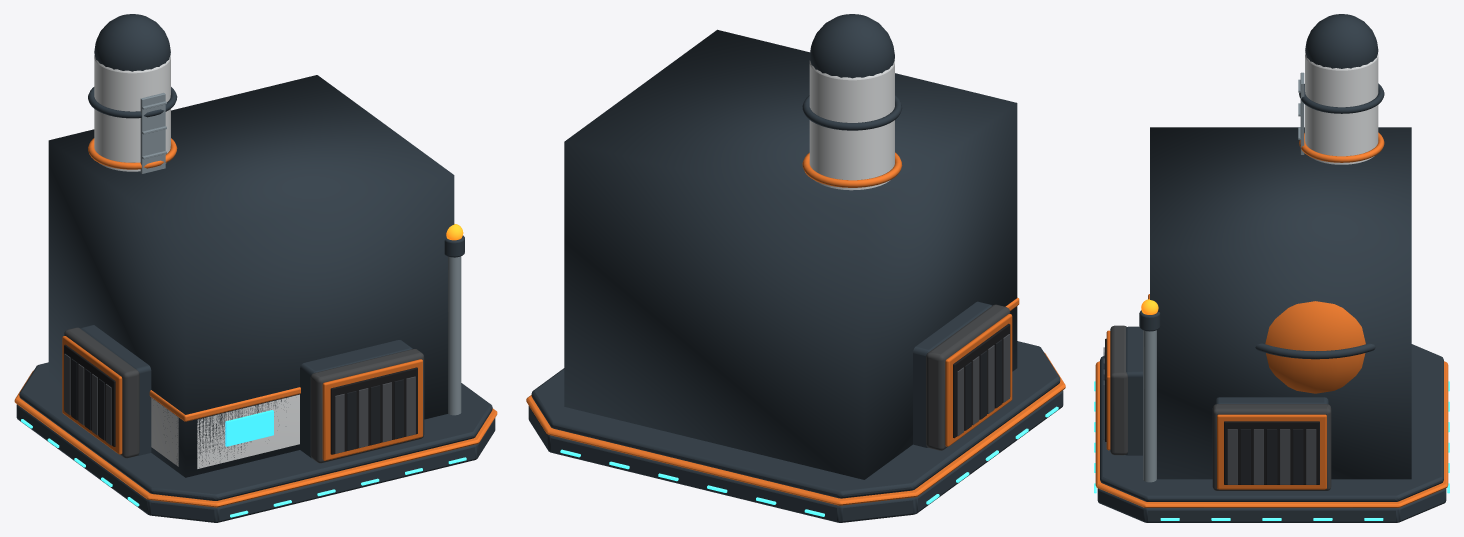
The model's file is refinery.glb.
3 views of the same model, side by side, from view 1: azimuth 30°, elevation 25°; view 2: azimuth 150°, elevation 25°; view 3: azimuth 270°, elevation 25° (orthographic). The views are drawn at different scales.
Visible parts, largest first — view 1: COL_body, deck, plinth, pump house, column, plinth lip, column top, port 2 frame, port 0 frame, port block 2, port 2 enamel, flare (+16 smaller); view 2: COL_body, deck, plinth, column, plinth lip, column top, port 0 frame, port block 0, port 0 enamel, port 0 throat, column ring 5, column ring 4; view 3: COL_body, deck, fuel sphere, column, plinth, plinth lip, column top, port 1 enamel, port 1 throat, port 1 frame, port 2 frame, flare (+13 smaller).
Boxes of the visible parts, x1,y1,x2,y2 form: COL_body: [48, 75, 454, 477]; deck: [19, 362, 492, 500]; plinth: [16, 404, 495, 522]; pump house: [151, 394, 299, 468]; column: [94, 55, 170, 171]; plinth lip: [14, 370, 497, 507]; column top: [94, 14, 170, 71]; port 2 frame: [310, 349, 424, 463]; port 0 frame: [64, 327, 139, 458]; port block 2: [300, 340, 412, 457]; port 2 enamel: [322, 359, 422, 460]; flare: [448, 256, 461, 415]; COL_body: [564, 29, 1017, 479]; deck: [531, 341, 1060, 498]; plinth: [528, 390, 1063, 522]; column: [809, 60, 894, 190]; plinth lip: [526, 352, 1065, 505]; column top: [809, 14, 894, 78]; port 0 frame: [926, 304, 1010, 450]; port block 0: [913, 301, 991, 447]; port 0 enamel: [945, 314, 1012, 446]; port 0 throat: [953, 323, 1010, 438]; column ring 5: [802, 95, 902, 130]; column ring 4: [802, 152, 902, 187]; COL_body: [1150, 127, 1411, 479]; deck: [1100, 344, 1443, 501]; fuel sphere: [1265, 301, 1365, 393]; column: [1305, 53, 1378, 164]; plinth: [1097, 488, 1446, 522]; plinth lip: [1095, 361, 1448, 507]; column top: [1305, 14, 1378, 68]; port 1 enamel: [1217, 414, 1326, 489]; port 1 throat: [1224, 421, 1319, 484]; port 1 frame: [1212, 404, 1331, 490]; port 2 frame: [1110, 325, 1127, 455]; flare: [1143, 330, 1156, 482].
Bounding box in the file's own units: 4.48 × 4.87 × 4.08.
